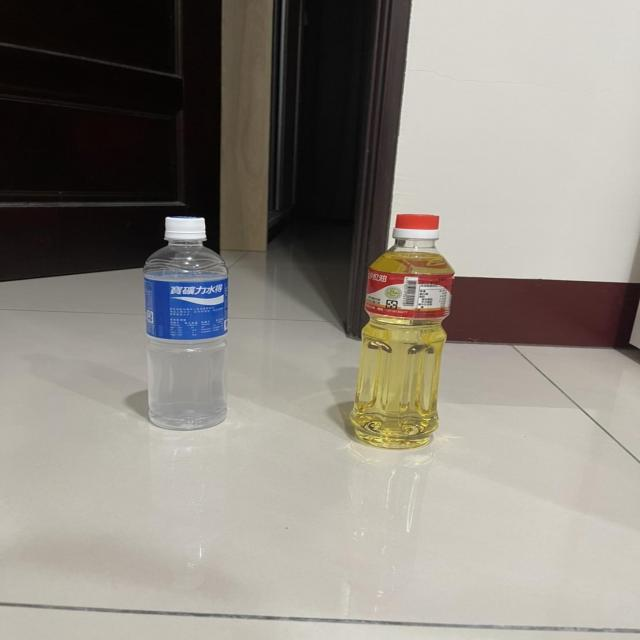bottle: (346, 208, 456, 461), (128, 213, 245, 442)
